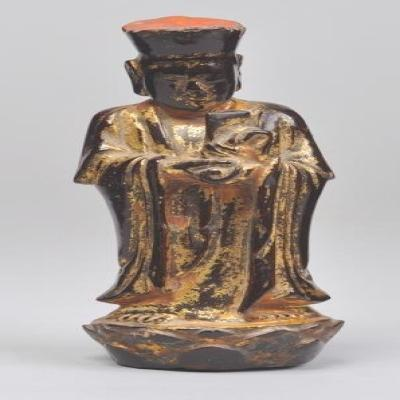sculpture: (72, 16, 345, 374)
